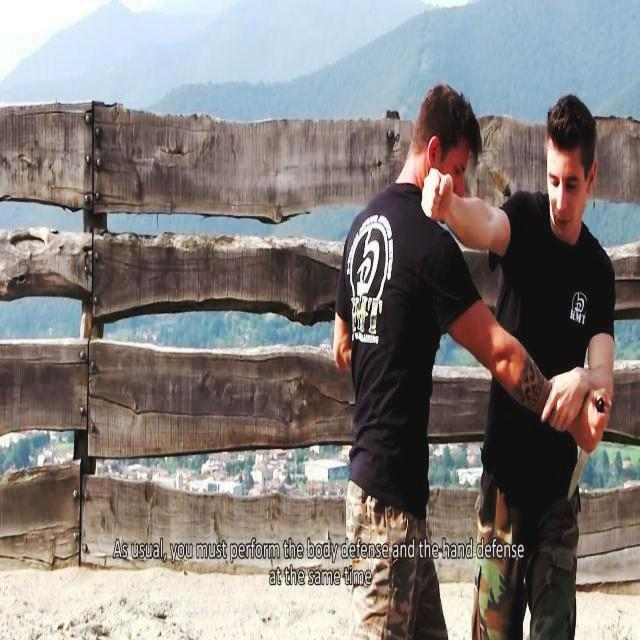Knife: (567, 395, 605, 508)
